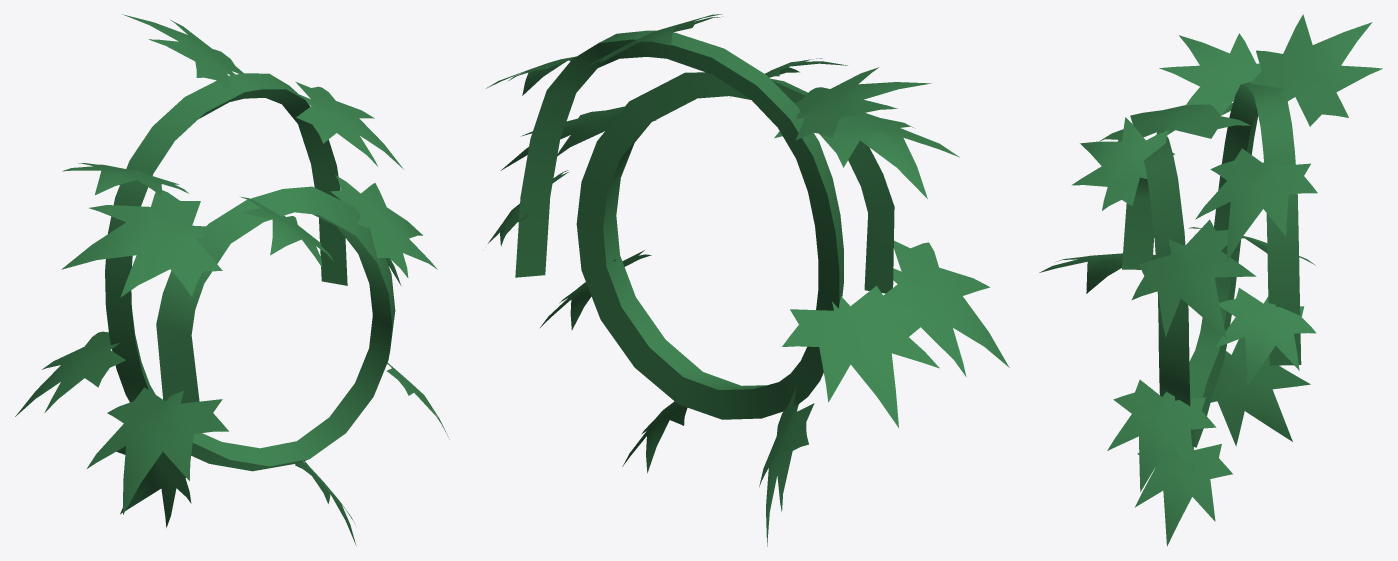
Rendered from vine_T_alangium_loop_angle.fbx.
The picture shows the model from 3 angles, left to right: view 1: azimuth 30°, elevation 25°; view 2: azimuth 150°, elevation 25°; view 3: azimuth 270°, elevation 25°; orthographic projection. The views are drawn at different scales.
Parts seen in each view (by area): view 1: vine_T_scanden_loop_angle_root, vine_alangium_A_leaf_B97, vine_alangium_A_leaf_B95, vine_alangium_A_leaf_B104, vine_alangium_A_leaf_B98, vine_alangium_A_leaf_B, vine_alangium_A_leaf_B96, vine_alangium_A_leaf_B103, vine_alangium_A_leaf_B93, vine_alangium_A_leaf_B100, vine_alangium_A_leaf_B101; view 2: vine_T_scanden_loop_angle_root, vine_alangium_A_leaf_B, vine_alangium_A_leaf_B95, vine_alangium_A_leaf_B97, vine_alangium_A_leaf_B100, vine_alangium_A_leaf_B103, vine_alangium_A_leaf_B104, vine_alangium_A_leaf_B101, vine_alangium_A_leaf_B96, vine_alangium_A_leaf_B102, vine_alangium_A_leaf_B98; view 3: vine_T_scanden_loop_angle_root, vine_alangium_A_leaf_B96, vine_alangium_A_leaf_B104, vine_alangium_A_leaf_B98, vine_alangium_A_leaf_B102, vine_alangium_A_leaf_B103, vine_alangium_A_leaf_B94, vine_alangium_A_leaf_B101, vine_alangium_A_leaf_B100, vine_alangium_A_leaf_B93, vine_alangium_A_leaf_B97, vine_alangium_A_leaf_B95.
Part boxes in pixels (box(x1,y1,x2,y2)): vine_T_scanden_loop_angle_root: box(105, 73, 395, 471); vine_alangium_A_leaf_B97: box(61, 190, 222, 297); vine_alangium_A_leaf_B95: box(87, 387, 228, 514); vine_alangium_A_leaf_B104: box(330, 175, 437, 277); vine_alangium_A_leaf_B98: box(295, 81, 403, 169); vine_alangium_A_leaf_B: box(15, 331, 125, 416); vine_alangium_A_leaf_B96: box(122, 14, 243, 91); vine_alangium_A_leaf_B103: box(116, 446, 191, 527); vine_alangium_A_leaf_B93: box(240, 196, 333, 267); vine_alangium_A_leaf_B100: box(62, 163, 188, 195); vine_alangium_A_leaf_B101: box(295, 461, 356, 545); vine_T_scanden_loop_angle_root: box(515, 30, 894, 419); vine_alangium_A_leaf_B: box(782, 285, 939, 427); vine_alangium_A_leaf_B95: box(883, 240, 1009, 376); vine_alangium_A_leaf_B97: box(774, 113, 959, 198); vine_alangium_A_leaf_B100: box(794, 67, 931, 140); vine_alangium_A_leaf_B103: box(759, 387, 814, 546); vine_alangium_A_leaf_B104: box(500, 106, 656, 170); vine_alangium_A_leaf_B101: box(622, 401, 687, 473); vine_alangium_A_leaf_B96: box(583, 14, 722, 69); vine_alangium_A_leaf_B102: box(539, 250, 651, 329); vine_alangium_A_leaf_B98: box(486, 56, 576, 95); vine_T_scanden_loop_angle_root: box(1122, 82, 1301, 447); vine_alangium_A_leaf_B96: box(1250, 14, 1382, 126); vine_alangium_A_leaf_B104: box(1132, 219, 1256, 338); vine_alangium_A_leaf_B98: box(1195, 148, 1317, 262); vine_alangium_A_leaf_B102: box(1107, 379, 1216, 491); vine_alangium_A_leaf_B103: box(1210, 337, 1310, 446); vine_alangium_A_leaf_B94: box(1214, 288, 1316, 387); vine_alangium_A_leaf_B101: box(1135, 444, 1232, 546); vine_alangium_A_leaf_B100: box(1159, 33, 1261, 115); vine_alangium_A_leaf_B93: box(1071, 117, 1174, 210); vine_alangium_A_leaf_B97: box(1099, 103, 1250, 141); vine_alangium_A_leaf_B95: box(1039, 253, 1155, 293).
Size of the model in its own units: 56.18 by 68.58 by 45.8.
